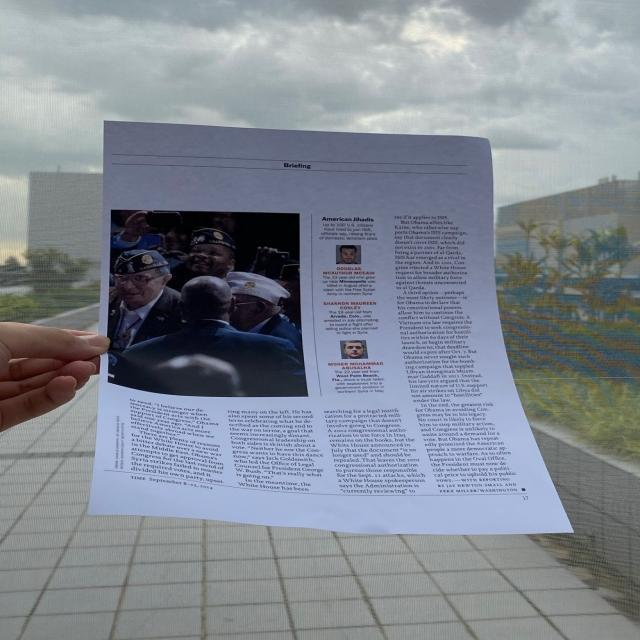document: (90, 121, 571, 534)
